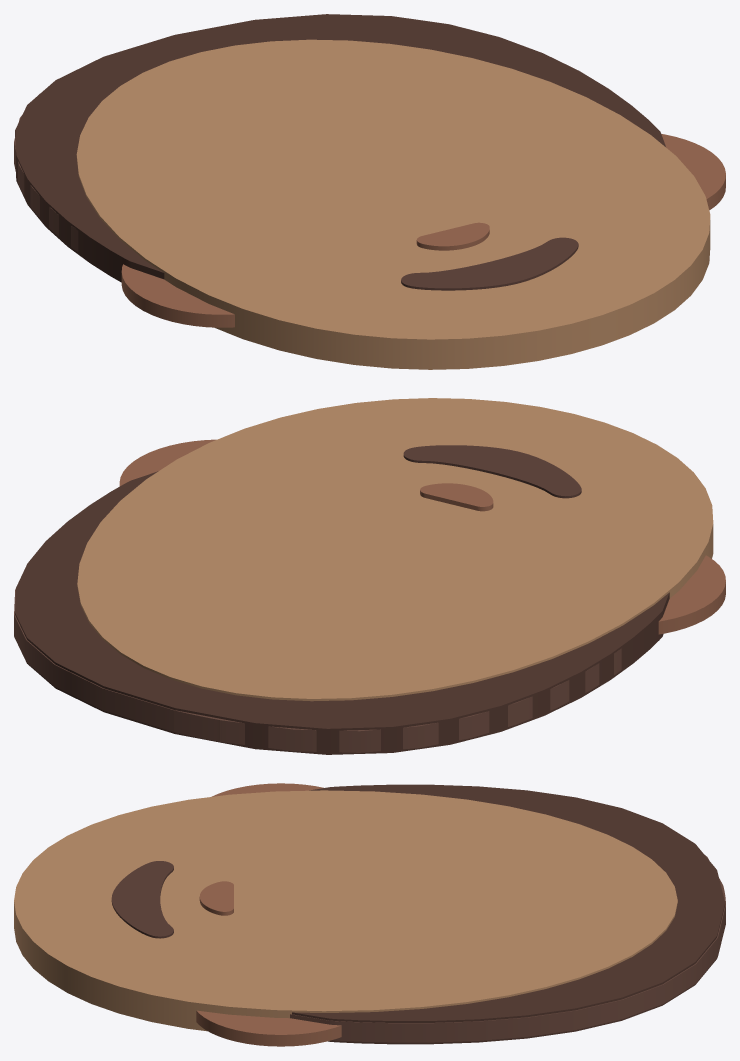
The model's file is emoji_u1f468_1f3fd.glb.
3 renders of one model, top to bottom at view 1: azimuth 30°, elevation 25°; view 2: azimuth 150°, elevation 25°; view 3: azimuth 270°, elevation 25°, orthographic. The views are drawn at different scales.
Visible parts, largest first — view 1: emoji_u1f468_1f3fd; view 2: emoji_u1f468_1f3fd; view 3: emoji_u1f468_1f3fd.
Boxes of the visible parts, <box> form: emoji_u1f468_1f3fd: <box>14,14,725,369</box>; emoji_u1f468_1f3fd: <box>14,398,725,754</box>; emoji_u1f468_1f3fd: <box>14,783,725,1046</box>.
Bounding box in the file's own units: 0.0279 × 0.0018 × 0.0333.
